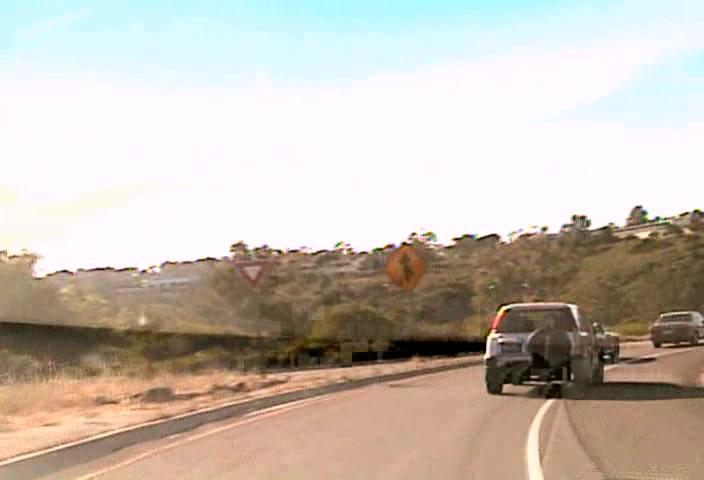yield: (233, 259, 267, 286)
